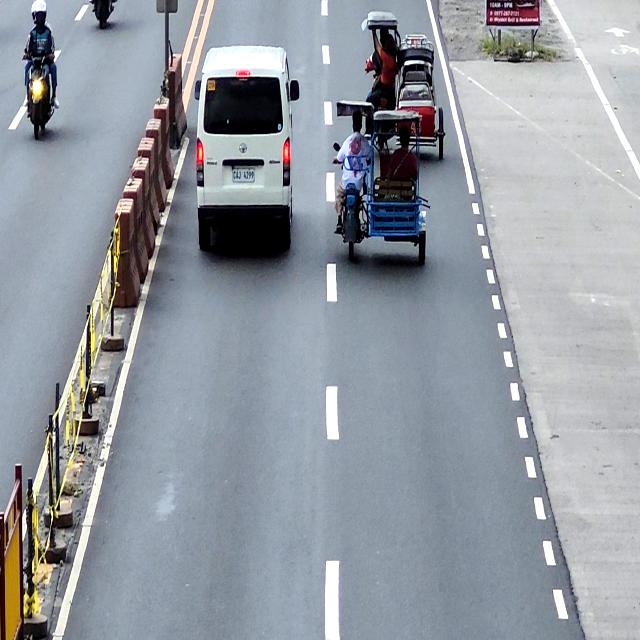Car: (194, 44, 300, 251)
License-Plate: (231, 164, 255, 183)
Motorcycle: (22, 48, 59, 140), (90, 0, 118, 31)
Tricycle: (332, 100, 430, 266), (361, 10, 446, 164)
